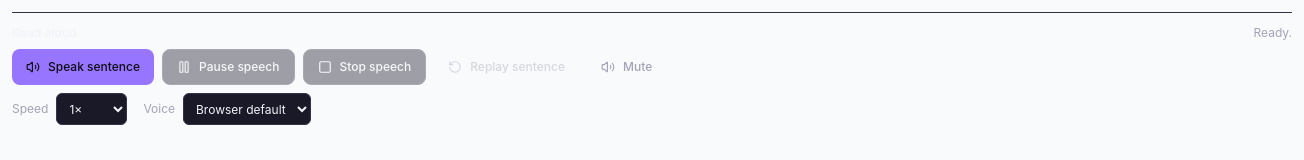
Test: DraftSpeech › pauses, resumes and stops the current speech
The image size is (1304, 160).
Click the button "Speak sentence".
click(83, 67)  # box [12,49,154,85]
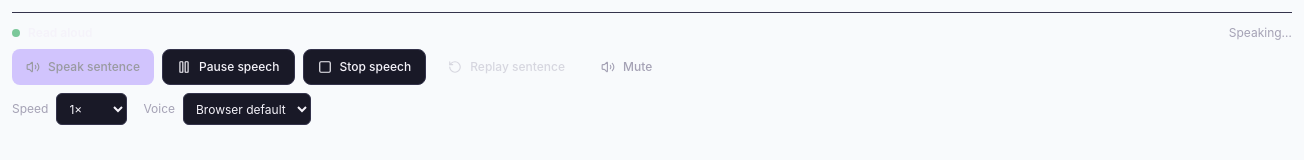
Click the button "Pause speech".
click(228, 67)  # box [162,49,294,85]
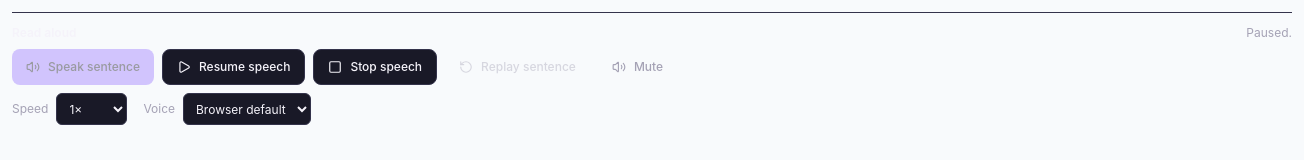
Expected: the text "Paused." is shown, [1246,25,1292,41]
Click the button "Resume speech".
click(234, 67)  # box [162,49,305,85]
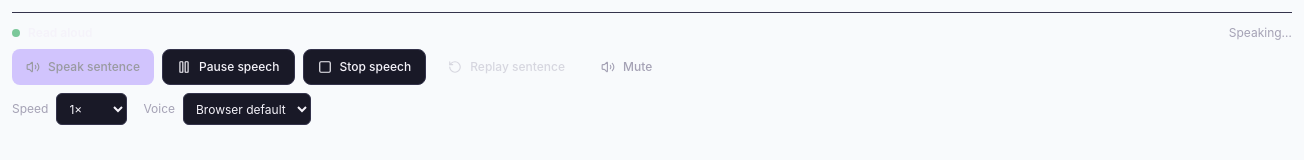
Expected: the text "Speaking…" is shown, [1229,25,1292,41]
Click the button "Stop speech".
click(364, 67)  # box [302,49,426,85]
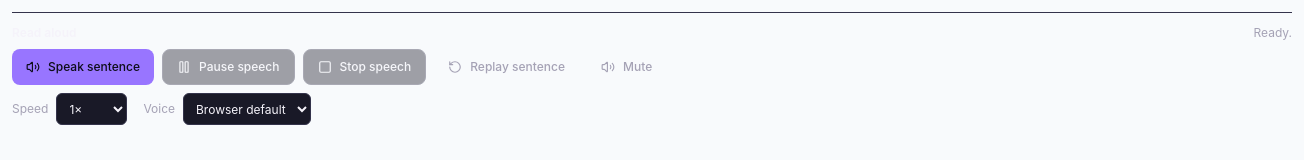
Expected: the button "Speak sentence" is enabled, [12,49,154,85]
